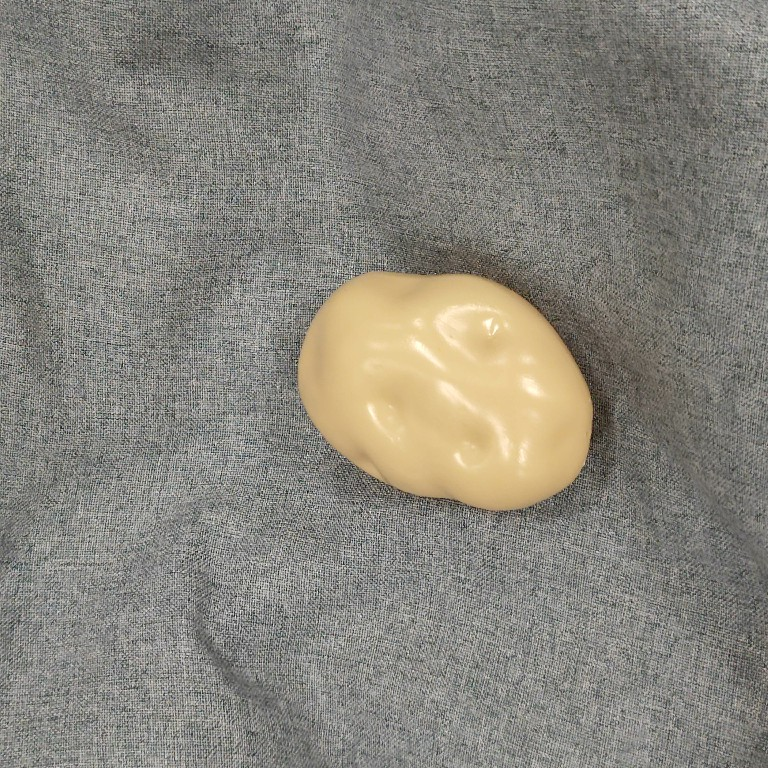fruit_potato: (290, 265, 596, 516)
